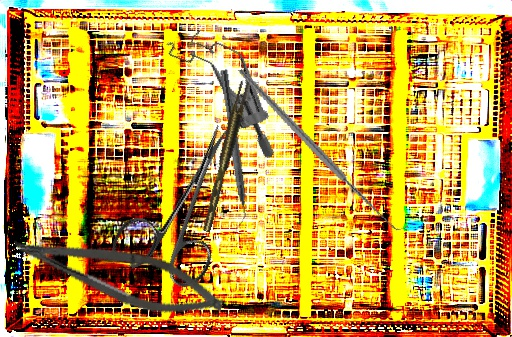Chopper: (208, 69, 254, 232)
Hook Surgical: (237, 39, 409, 259)
Iris Scissors: (106, 106, 265, 297)
Micro Scissor: (5, 224, 230, 328)
Speculum: (140, 17, 309, 162)
Tissue Forceps: (195, 78, 256, 233)
